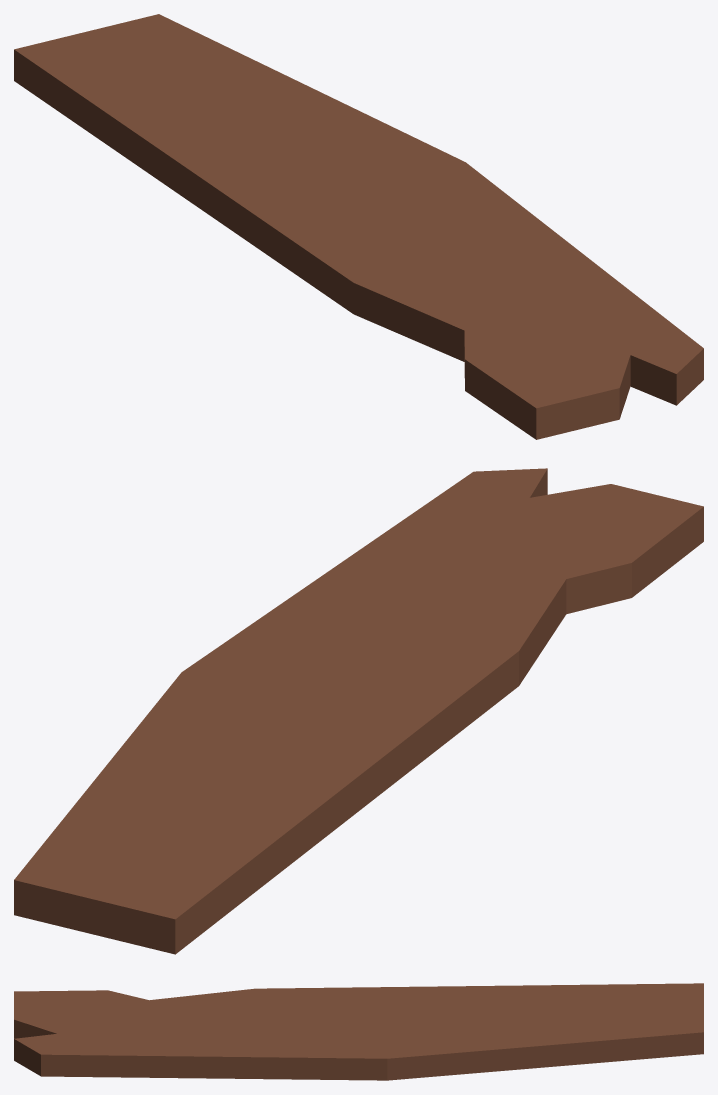
Rendered from LPWarPack_Plank2.fbx.
The picture shows the model from 3 angles, top to bottom: view 1: azimuth 30°, elevation 25°; view 2: azimuth 150°, elevation 25°; view 3: azimuth 270°, elevation 25°; orthographic projection. The views are drawn at different scales.
Visible parts, largest first — view 1: Plank2; view 2: Plank2; view 3: Plank2.
Boxes of the visible parts, <box> form: Plank2: <box>14,14,703,439</box>; Plank2: <box>14,468,703,954</box>; Plank2: <box>14,983,703,1080</box>.
Size of the model in its own units: 23.07 by 3.12 by 89.25.
